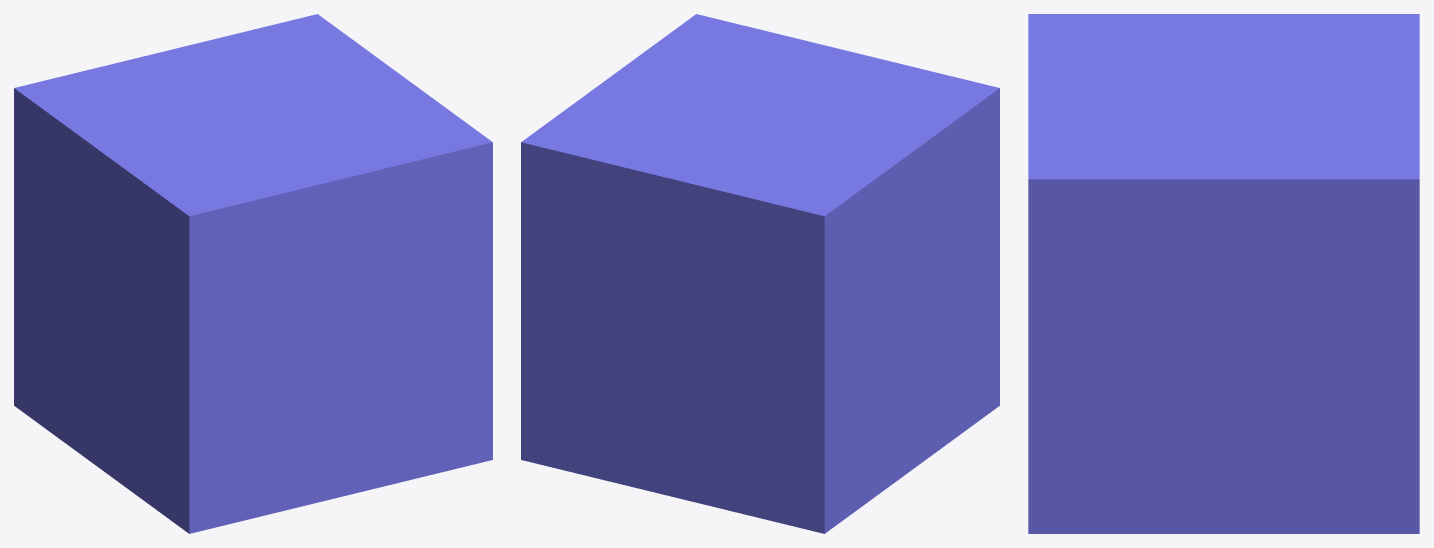
The model's file is legoblock.obj.
3 renders of one model, left to right at view 1: azimuth 30°, elevation 25°; view 2: azimuth 150°, elevation 25°; view 3: azimuth 270°, elevation 25°, orthographic. The views are drawn at different scales.
Visible parts, largest first — view 1: Cube_Cube.001; view 2: Cube_Cube.001; view 3: Cube_Cube.001.
Part boxes in pixels (left/top/right/bottom): Cube_Cube.001: left=14, top=14, right=492, bottom=533; Cube_Cube.001: left=521, top=14, right=999, bottom=533; Cube_Cube.001: left=1028, top=14, right=1419, bottom=533.
Size of the model in its own units: 2 by 2 by 2.
